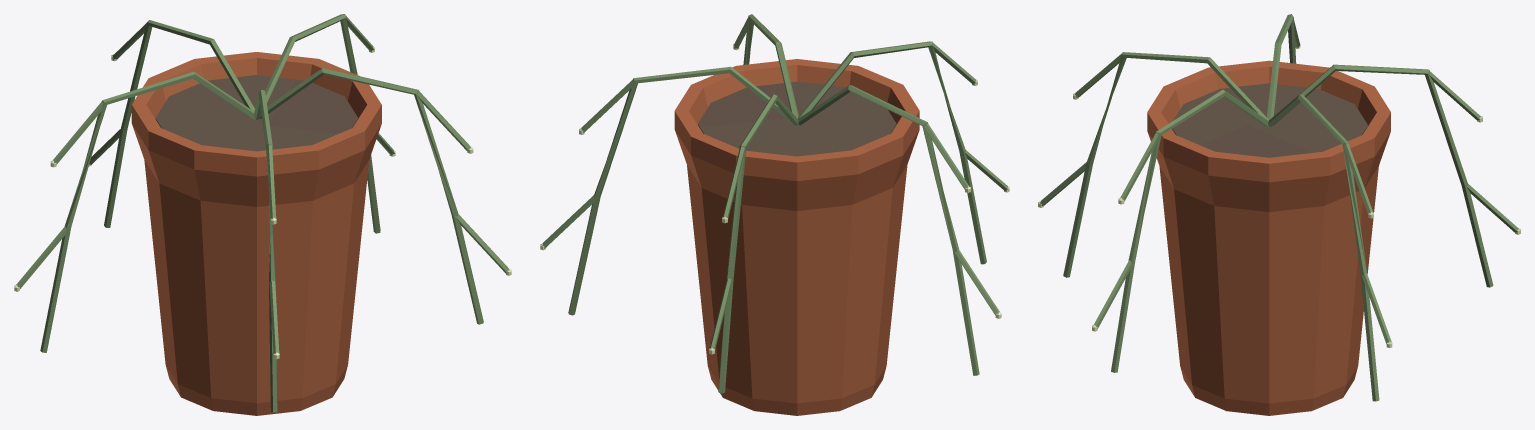
Rendered from new-baccifera.glb.
3 renders of one model, left to right at view 1: azimuth 30°, elevation 25°; view 2: azimuth 150°, elevation 25°; view 3: azimuth 270°, elevation 25°, orthographic. The views are drawn at different scales.
Parts seen in each view (by area): view 1: new-baccifera/review-terra-vessel, new-baccifera/review-rooted-soil, new-baccifera/stem-021, new-baccifera/stem-006, new-baccifera/stem-016, new-baccifera/stem-011, new-baccifera/stem-001, new-baccifera/petiole-022, new-baccifera/petiole-024, new-baccifera/petiole-007, new-baccifera/petiole-002, new-baccifera/petiole-009 (+1 smaller); view 2: new-baccifera/review-terra-vessel, new-baccifera/review-rooted-soil, new-baccifera/stem-011, new-baccifera/stem-021, new-baccifera/stem-001, new-baccifera/stem-016, new-baccifera/stem-006, new-baccifera/petiole-022, new-baccifera/petiole-024, new-baccifera/petiole-017, new-baccifera/petiole-019, new-baccifera/petiole-012; view 3: new-baccifera/review-terra-vessel, new-baccifera/review-rooted-soil, new-baccifera/stem-016, new-baccifera/stem-006, new-baccifera/stem-001, new-baccifera/stem-011, new-baccifera/stem-021, new-baccifera/petiole-012, new-baccifera/petiole-014, new-baccifera/petiole-007, new-baccifera/petiole-009.
Part boxes in pixels (box(x1,y1,x2,y2)): new-baccifera/review-terra-vessel: box(131, 52, 381, 415); new-baccifera/review-rooted-soil: box(155, 75, 358, 151); new-baccifera/stem-021: box(40, 71, 254, 352); new-baccifera/stem-006: box(260, 68, 483, 324); new-baccifera/stem-016: box(104, 20, 254, 227); new-baccifera/stem-011: box(265, 14, 380, 233); new-baccifera/stem-001: box(253, 89, 277, 412); new-baccifera/petiole-022: box(52, 101, 103, 164); new-baccifera/petiole-024: box(16, 226, 66, 288); new-baccifera/petiole-007: box(417, 91, 471, 151); new-baccifera/petiole-002: box(266, 145, 276, 219); new-baccifera/petiole-009: box(455, 214, 509, 273); new-baccifera/review-terra-vessel: box(674, 59, 919, 415); new-baccifera/review-rooted-soil: box(698, 81, 896, 156); new-baccifera/stem-011: box(568, 66, 793, 315); new-baccifera/stem-021: box(798, 85, 979, 375); new-baccifera/stem-001: box(798, 41, 986, 264); new-baccifera/stem-016: box(718, 94, 798, 393); new-baccifera/stem-006: box(743, 14, 798, 118); new-baccifera/petiole-022: box(924, 123, 969, 189); new-baccifera/petiole-024: box(954, 250, 999, 315); new-baccifera/petiole-017: box(722, 146, 744, 218); new-baccifera/petiole-019: box(710, 278, 731, 350); new-baccifera/petiole-012: box(581, 79, 633, 132); new-baccifera/review-terra-vessel: box(1147, 60, 1390, 415); new-baccifera/review-rooted-soil: box(1172, 83, 1367, 157); new-baccifera/stem-016: box(1274, 64, 1493, 287); new-baccifera/stem-006: box(1111, 90, 1268, 372); new-baccifera/stem-001: box(1063, 52, 1268, 277); new-baccifera/stem-011: box(1268, 94, 1379, 401); new-baccifera/stem-021: box(1267, 14, 1296, 119); new-baccifera/petiole-012: box(1343, 143, 1373, 214); new-baccifera/petiole-014: box(1361, 273, 1391, 343); new-baccifera/petiole-007: box(1120, 133, 1158, 201); new-baccifera/petiole-009: box(1093, 260, 1131, 328).
Size of the model in its own units: 0.3737 by 0.2666 by 0.3759.
Materials: 4 (4 with a texture image).
